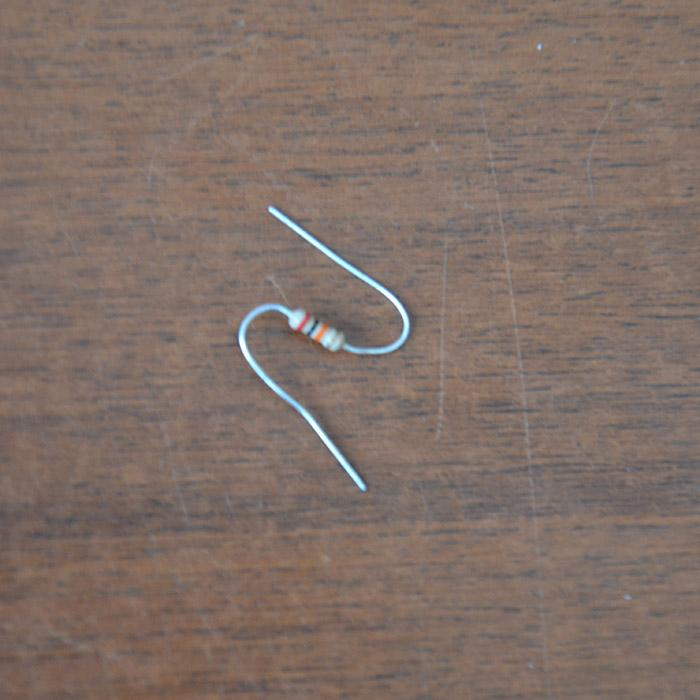resistor: (285, 307, 346, 353)
